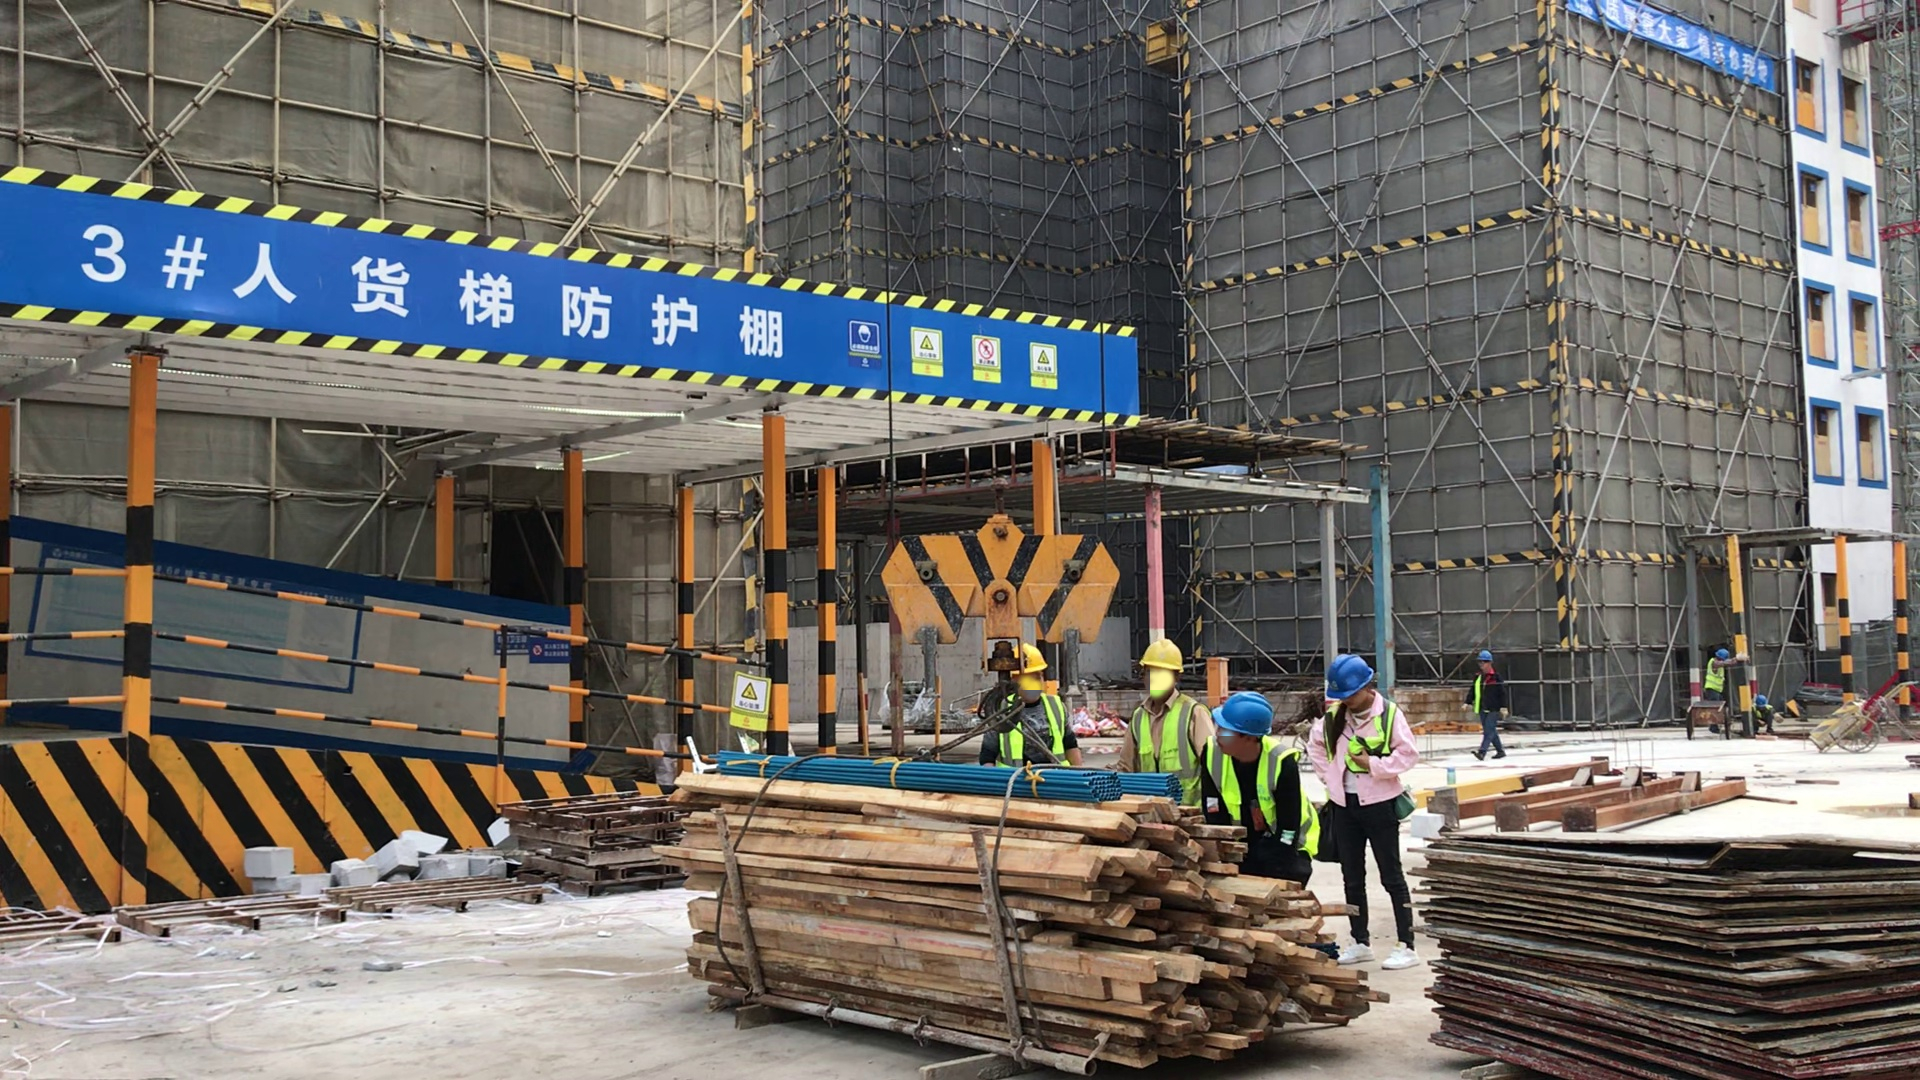board: (1436, 795, 1916, 1080)
handcart: (1807, 680, 1919, 752)
helmet: (1212, 691, 1273, 737), (1325, 652, 1372, 700), (1139, 636, 1183, 674), (1010, 643, 1048, 674), (1753, 695, 1769, 708), (1475, 651, 1492, 663), (1715, 648, 1728, 662)
hook: (869, 511, 1138, 653)
person: (1306, 652, 1427, 971), (1194, 689, 1320, 864), (1118, 637, 1218, 783), (981, 643, 1086, 769), (1465, 648, 1510, 760), (1702, 648, 1730, 703), (1751, 694, 1782, 738)
slogan: (1545, 1, 1787, 101)
vest: (1200, 740, 1314, 857), (984, 684, 1080, 763), (1326, 698, 1415, 776), (1117, 692, 1200, 770), (1703, 657, 1724, 693)
wood: (647, 765, 1389, 1080)
